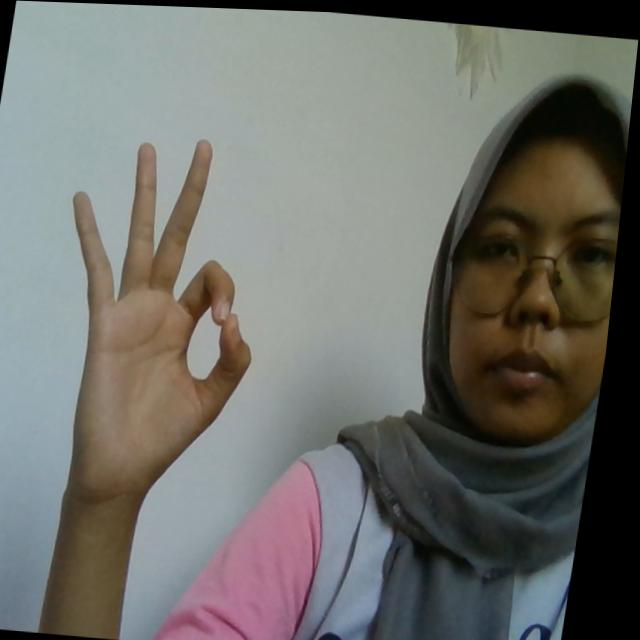F: (37, 122, 292, 508)
